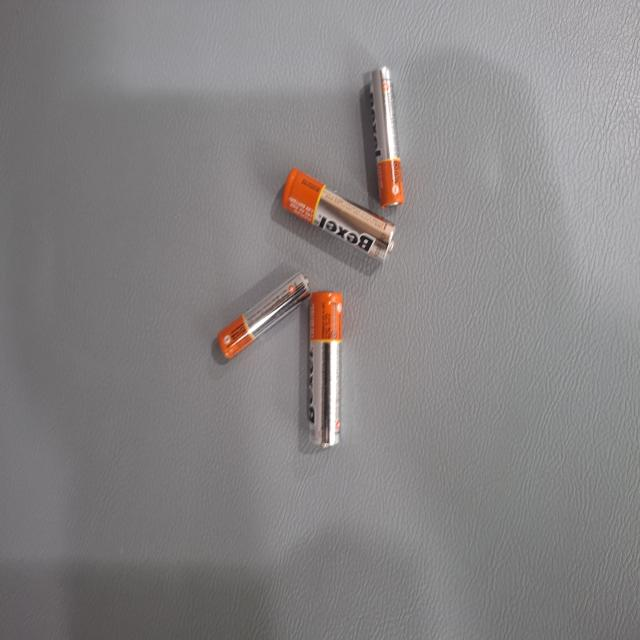AA: (125, 327, 197, 477), (217, 397, 336, 442)
AAA: (202, 436, 269, 564), (52, 314, 154, 360)
